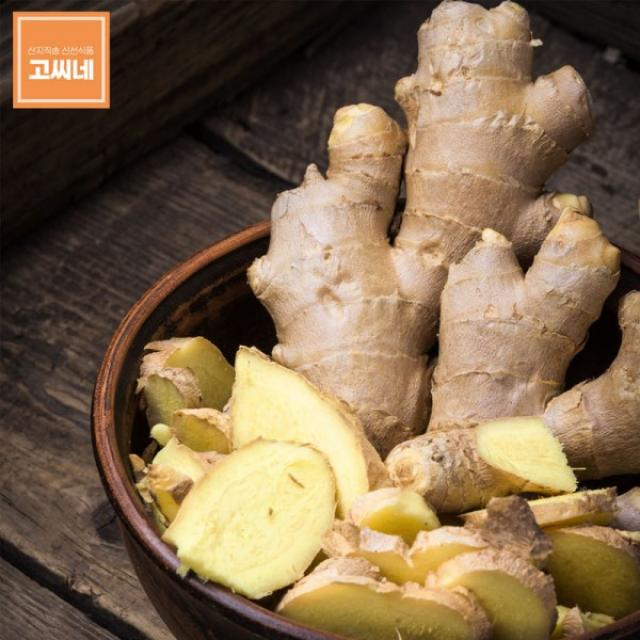ginger: (125, 5, 640, 640)
